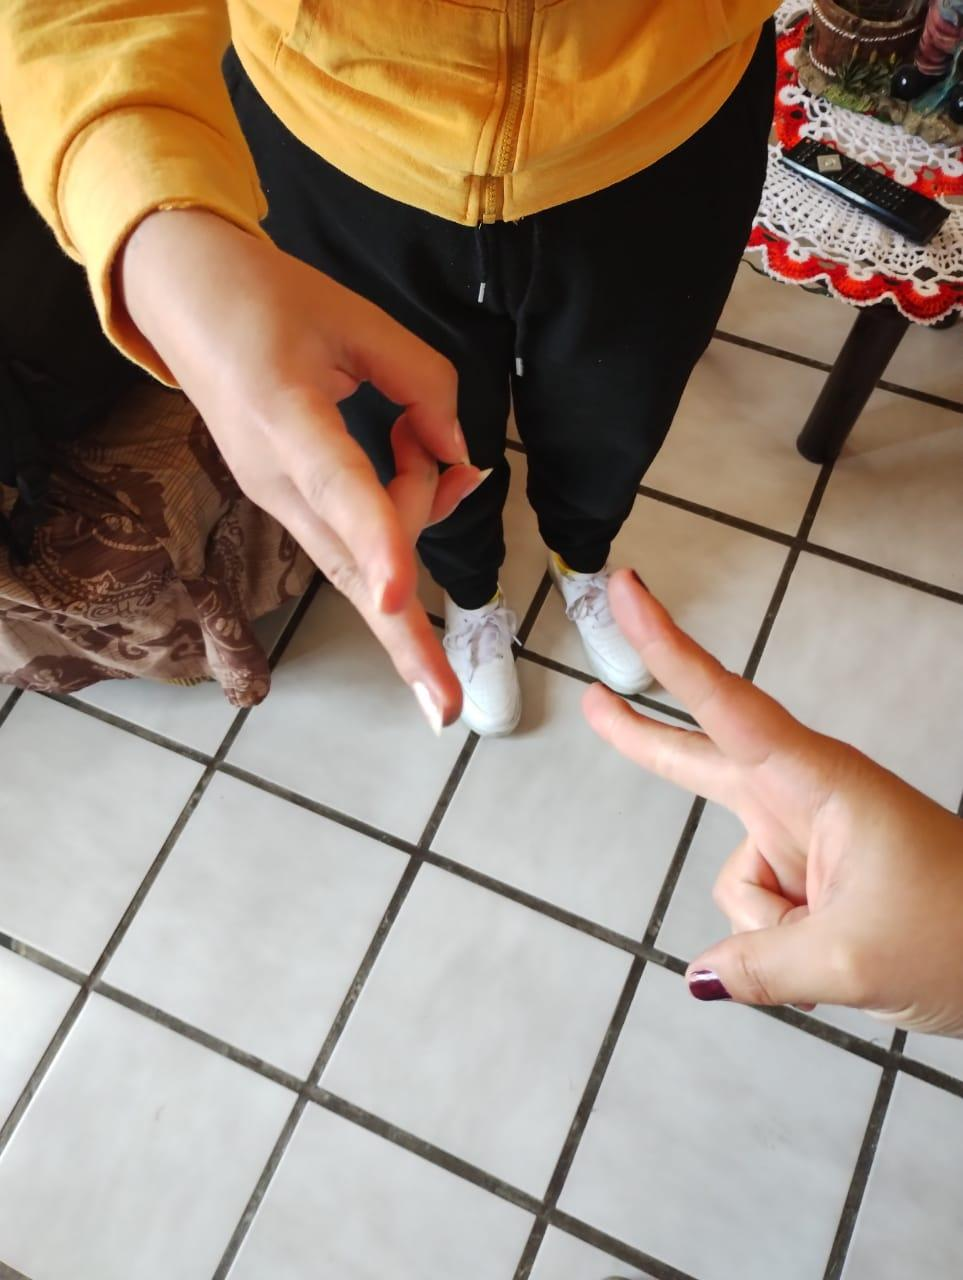Scissor: (67, 186, 546, 749), (526, 556, 963, 1090)
